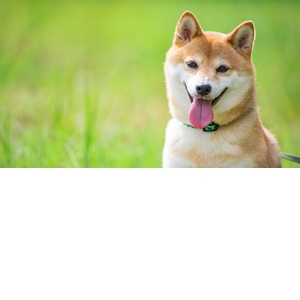dog: (141, 3, 279, 138)
